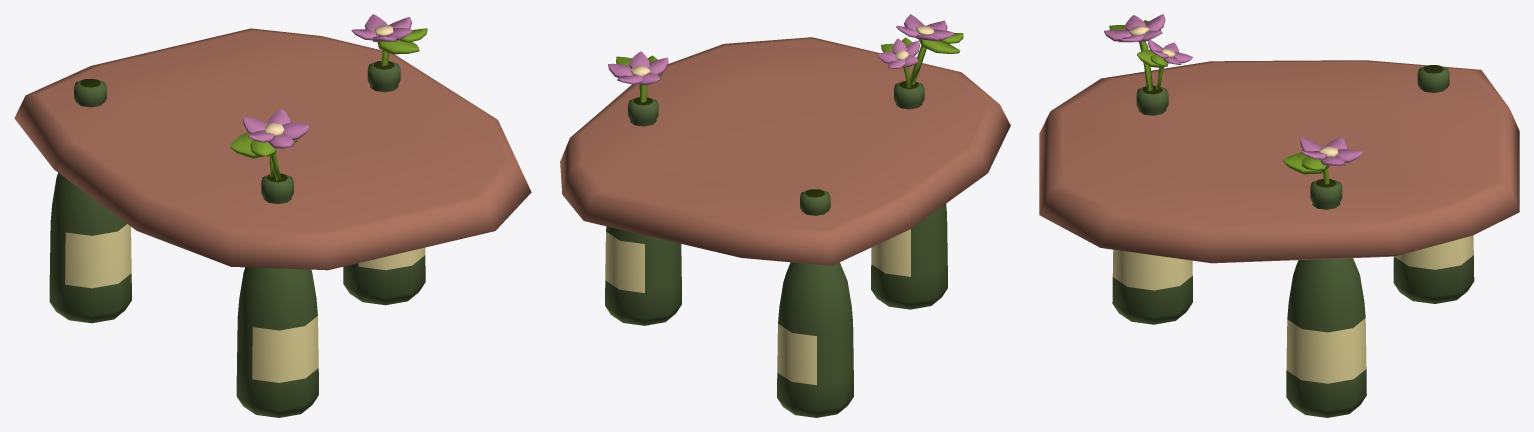
Rendered from decoratedTable.fbx.
3 renders of one model, left to right at view 1: azimuth 30°, elevation 25°; view 2: azimuth 150°, elevation 25°; view 3: azimuth 270°, elevation 25°, orthographic. The views are drawn at different scales.
Parts seen in each view (by area): view 1: Cube.011; view 2: Cube.011; view 3: Cube.011.
Part boxes in pixels (box(x1,y1,x2,y2)): Cube.011: box(14, 14, 531, 417); Cube.011: box(560, 14, 1010, 417); Cube.011: box(1039, 14, 1519, 417).
Bounding box in the file's own units: 127 × 94.41 × 145.
